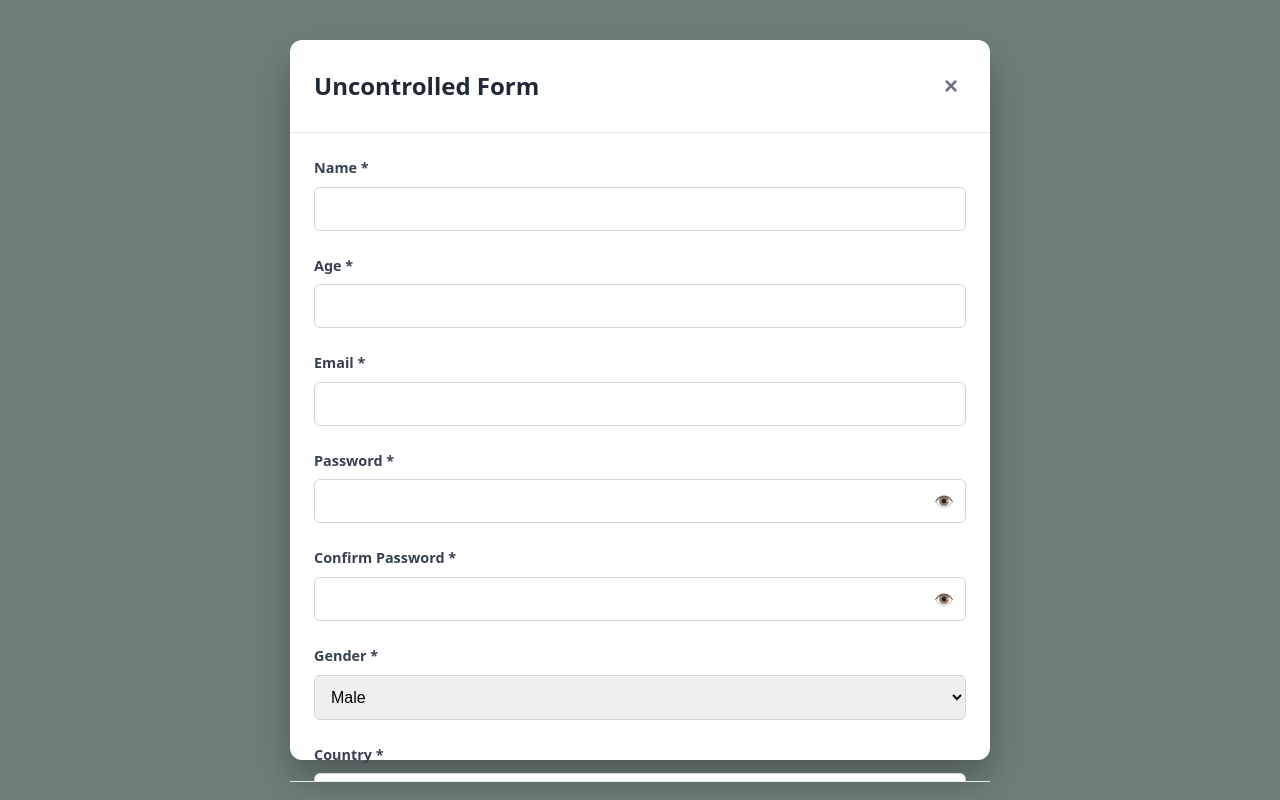
it: UncontrolledForm Component › Password Strength Updates › should update password strength when password changes
This screenshot has width=1280, height=800.
Type "weak" into the password field labelled "Password *" at (640, 501), box [314,479,966,523]
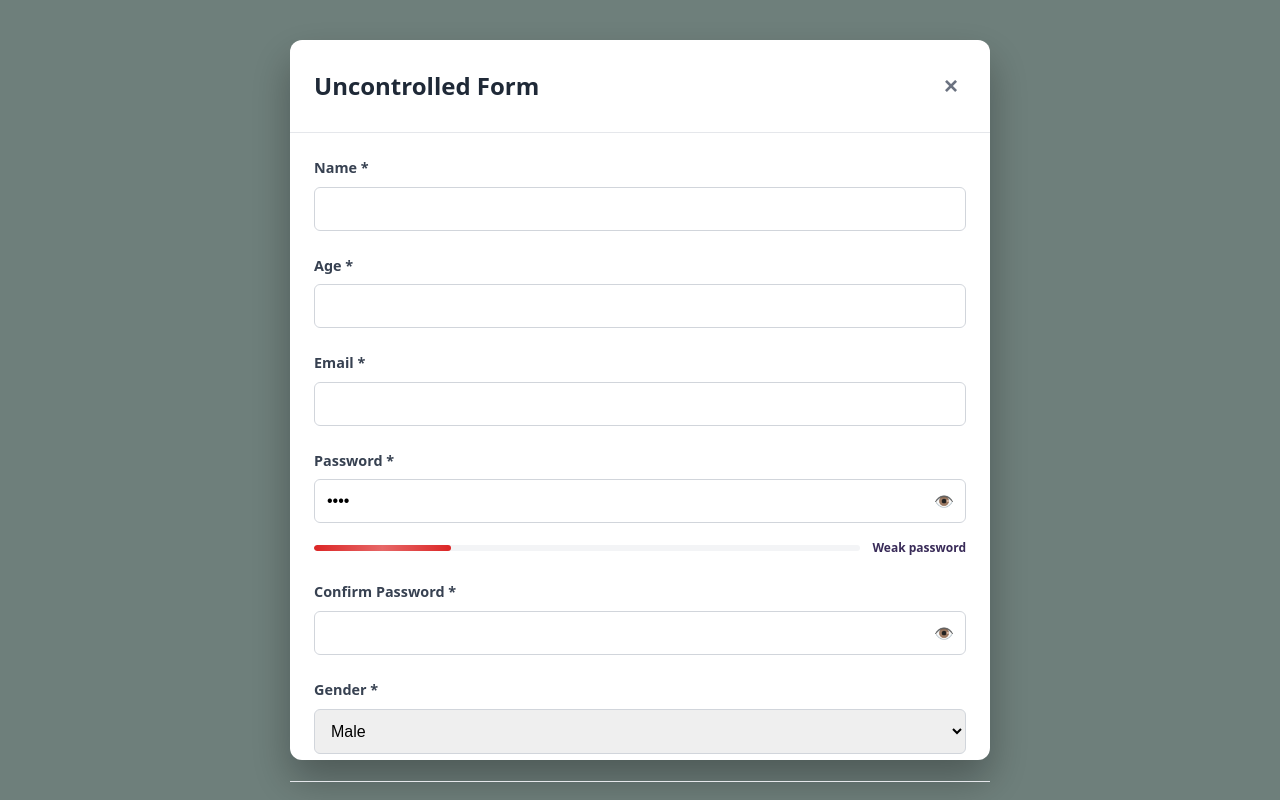
Now the text "Weak password" is shown, box [872,539,966,557]
Type "Medium123" into the password field labelled "Password *" at (640, 501), box [314,479,966,523]
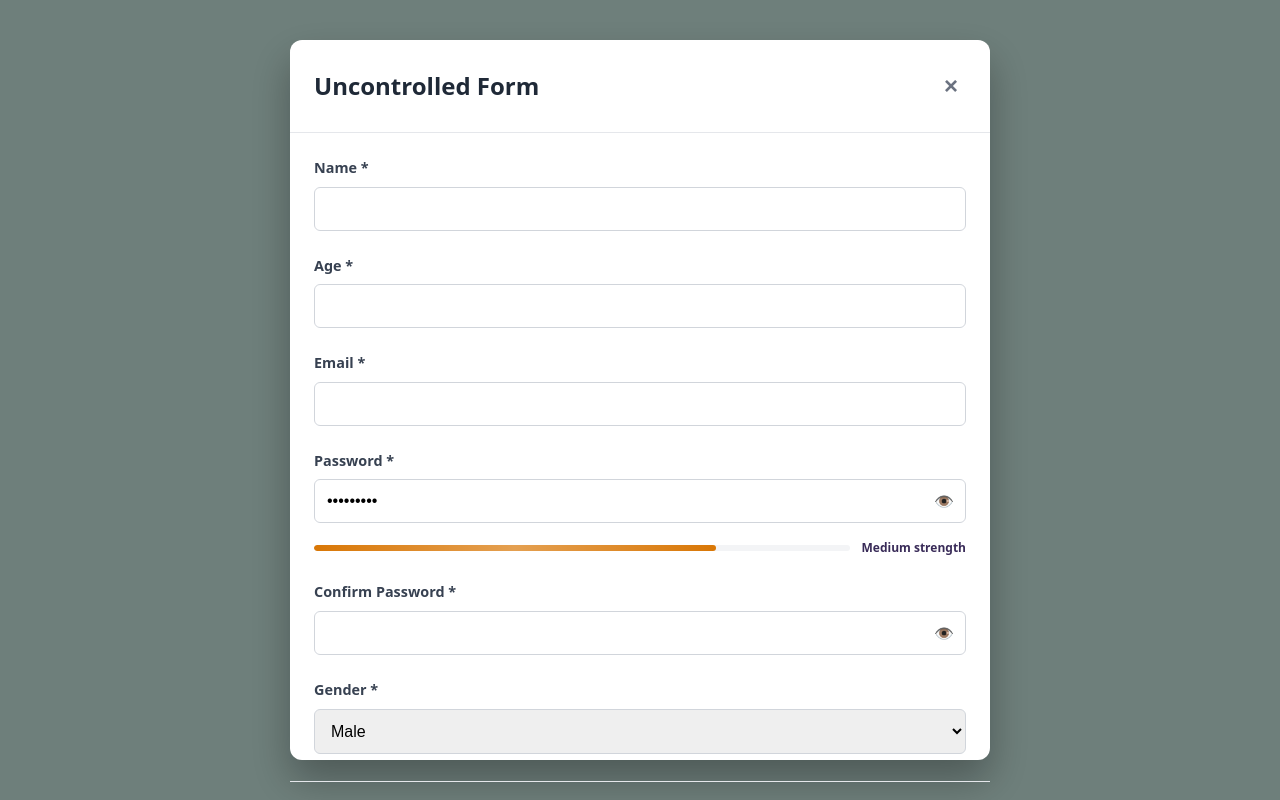
Now the text "Medium strength" is shown, box [862,539,966,557]
Type "StrongP@ss123" into the password field labelled "Password *" at (640, 501), box [314,479,966,523]
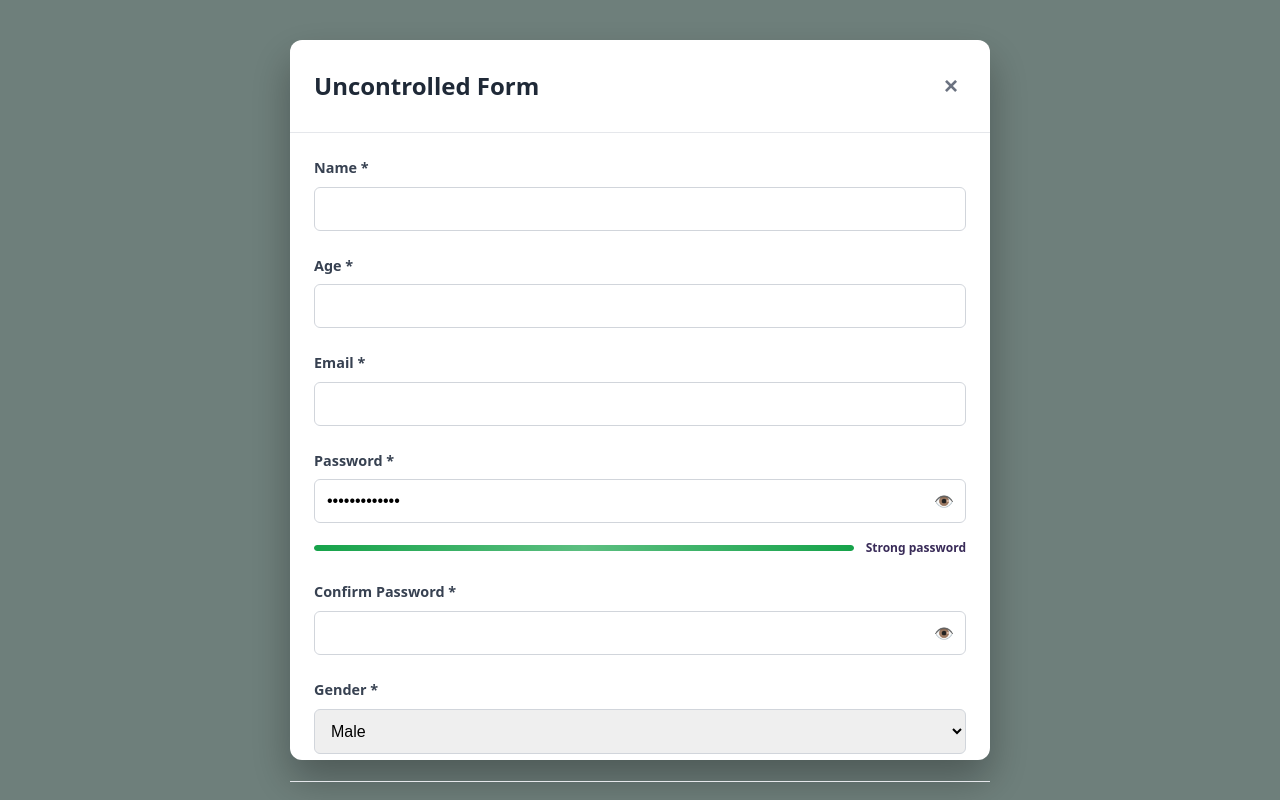
Now the text "Strong password" is shown, box [866,539,966,557]
